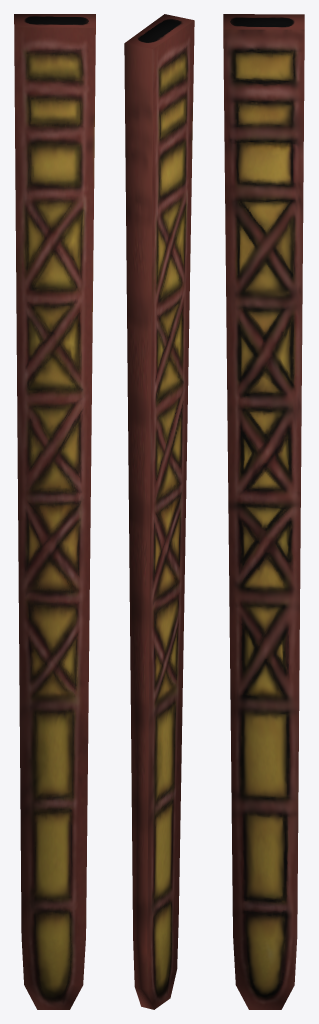
Rendered from Sheath_Empty.fbx.
3 views of the same model, side by side, from view 1: azimuth 90°, elevation 25°; view 2: azimuth 150°, elevation 25°; view 3: azimuth 270°, elevation 25° (orthographic).
Visible parts, largest first — view 1: sword_hilt; view 2: sword_hilt; view 3: sword_hilt.
Part boxes in pixels (x1=…): sword_hilt: x1=14, y1=14, x2=95, y2=1009; sword_hilt: x1=124, y1=14, x2=194, y2=1009; sword_hilt: x1=223, y1=14, x2=304, y2=1009.
Size of the model in its own units: 0.0312 by 0.9659 by 0.0725.
